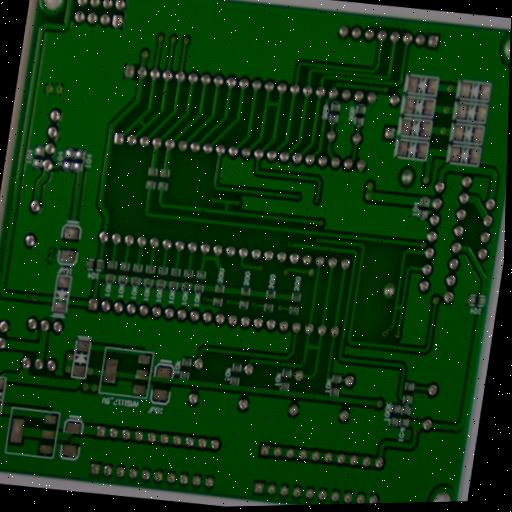short_circuit: (260, 93, 285, 116), (198, 246, 223, 267), (302, 340, 325, 358), (133, 114, 152, 134), (391, 299, 406, 316)
